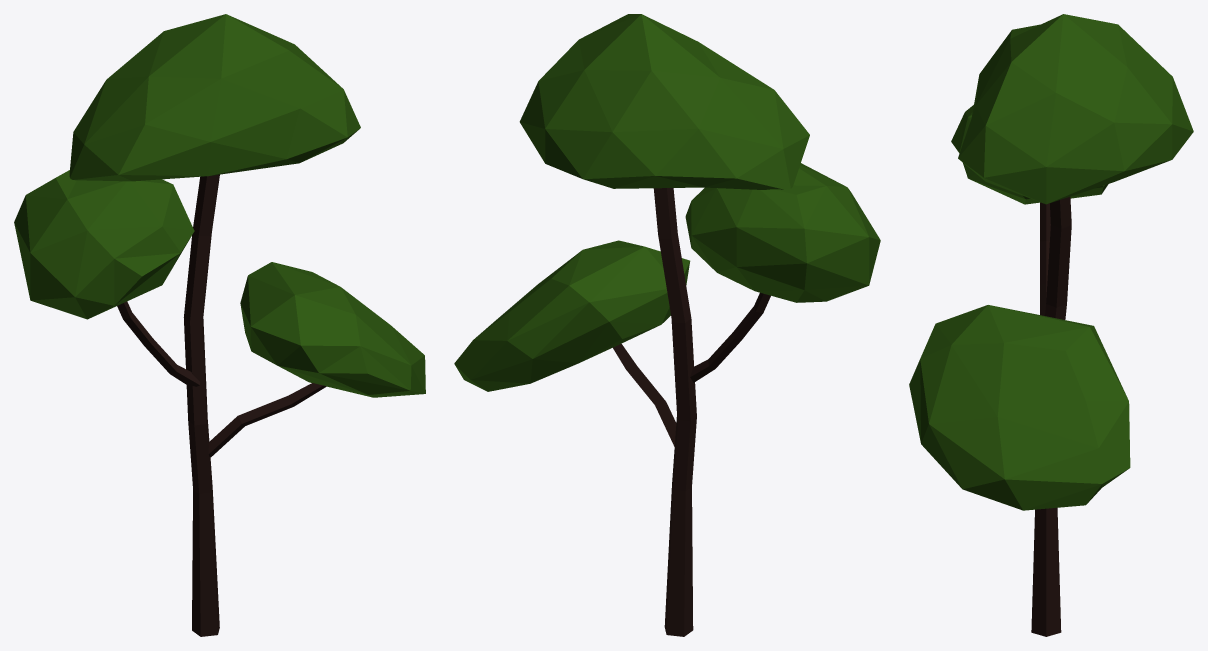
The model's file is SM_tree_c_03.FBX.
3 renders of one model, left to right at view 1: azimuth 30°, elevation 25°; view 2: azimuth 150°, elevation 25°; view 3: azimuth 270°, elevation 25°, orthographic. The views are drawn at different scales.
Parts seen in each view (by area): view 1: Object037; view 2: Object037; view 3: Object037.
Boxes of the visible parts, x1,y1,x2,y2 form: Object037: (14,14,425,636); Object037: (454,14,880,636); Object037: (909,14,1193,636).
Bounding box in the file's own units: 489 × 743 × 304.
